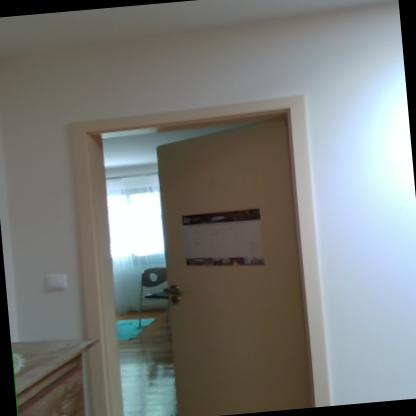semi: (64, 91, 353, 415)
